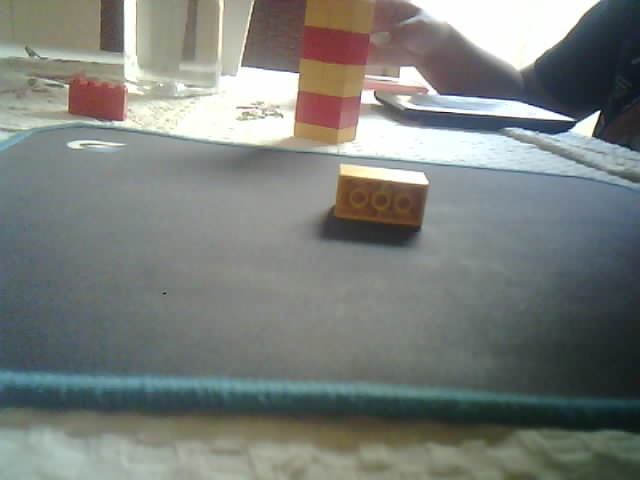lego: (291, 1, 376, 145), (333, 160, 430, 230), (67, 73, 129, 122)
